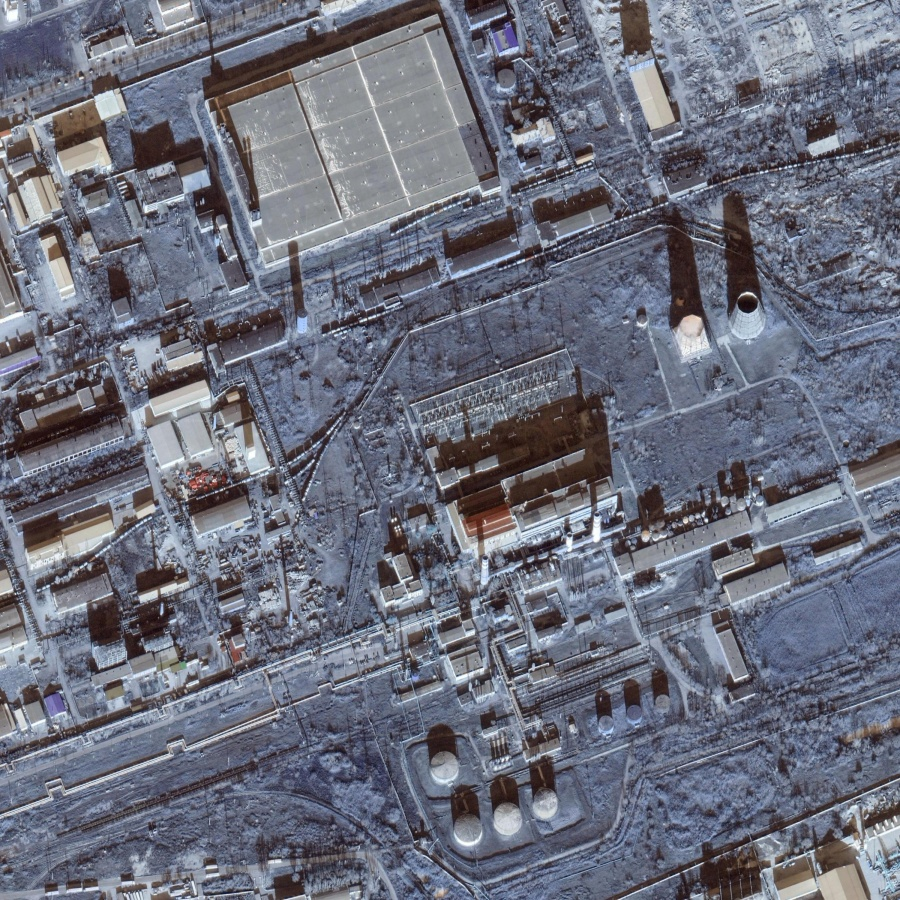PowerPlant: (409, 263, 809, 851)
